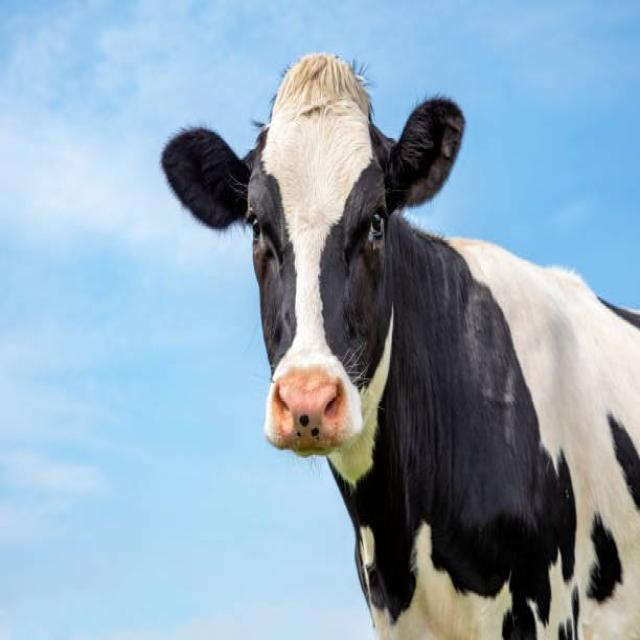cow: (220, 59, 479, 496)
